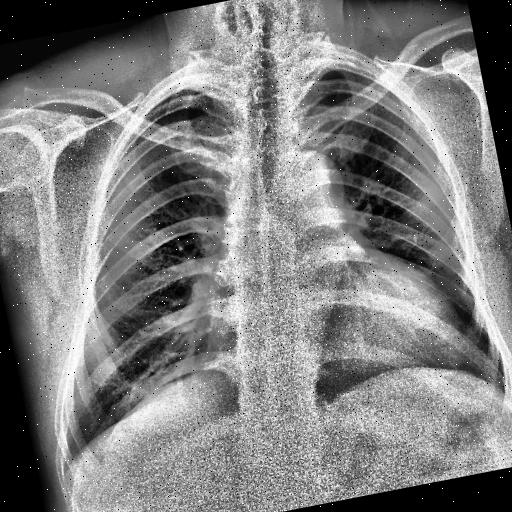0- Aortic enlargement: (269, 148, 349, 230), (268, 146, 348, 218), (284, 144, 348, 214)
3- Cardiomegaly: (200, 238, 470, 412), (200, 266, 470, 416), (200, 282, 470, 416)
